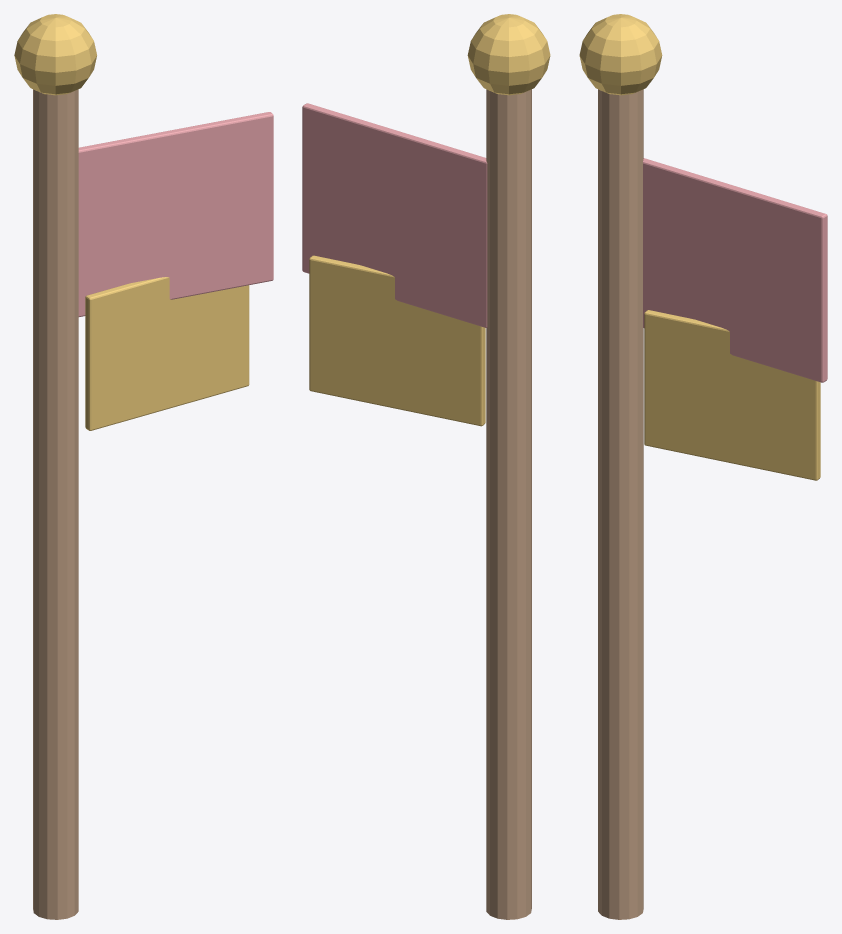
The model's file is kit_flag.glb.
3 views of the same model, side by side, from view 1: azimuth 30°, elevation 25°; view 2: azimuth 150°, elevation 25°; view 3: azimuth 330°, elevation 25° (orthographic).
Parts seen in each view (by area): view 1: kit_flag.001; view 2: kit_flag.001; view 3: kit_flag.001.
Part boxes in pixels (box(x1,y1,x2,y2)): kit_flag.001: box(14, 14, 273, 919); kit_flag.001: box(302, 14, 550, 919); kit_flag.001: box(579, 14, 827, 919).
Bounding box in the file's own units: 0.6193 × 2.14 × 0.18.
